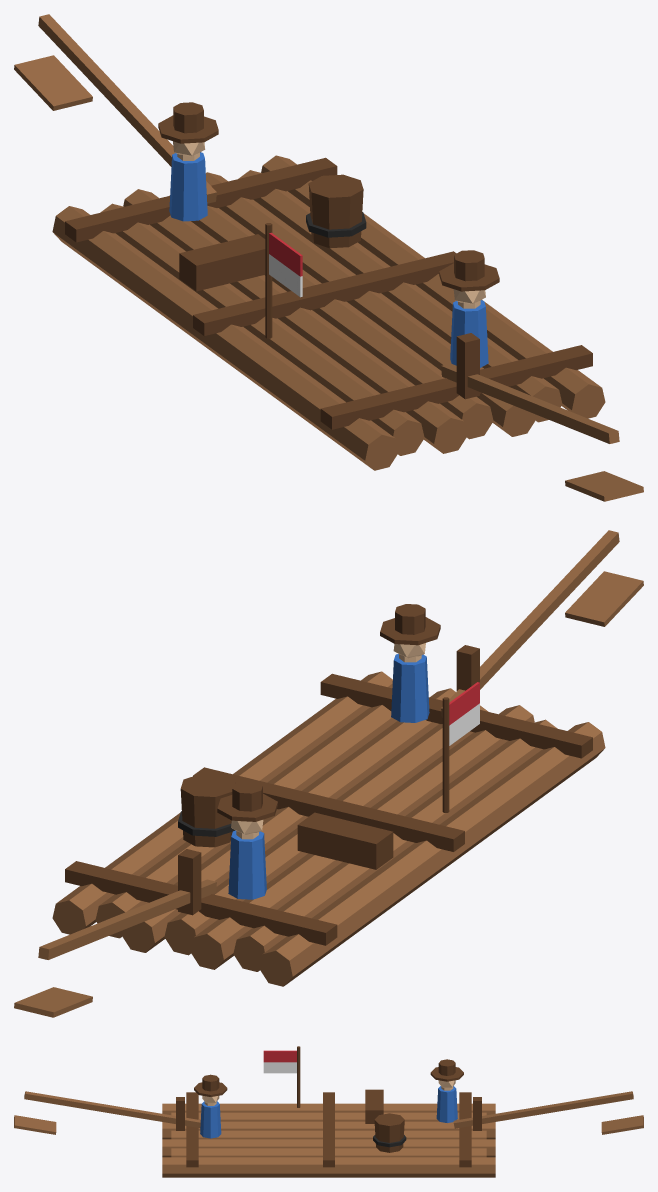
The model's file is raft.glb.
3 renders of one model, top to bottom at view 1: azimuth 30°, elevation 25°; view 2: azimuth 150°, elevation 25°; view 3: azimuth 270°, elevation 25°, orthographic. The views are drawn at different scales.
Visible parts, largest first — view 1: Raft; view 2: Raft; view 3: Raft.
Part boxes in pixels (left/top/right/bottom): Raft: left=14, top=14, right=643, bottom=501; Raft: left=14, top=530, right=643, bottom=1017; Raft: left=14, top=1046, right=643, bottom=1177.
Size of the model in its own units: 5.3 by 2.87 by 20.78.
